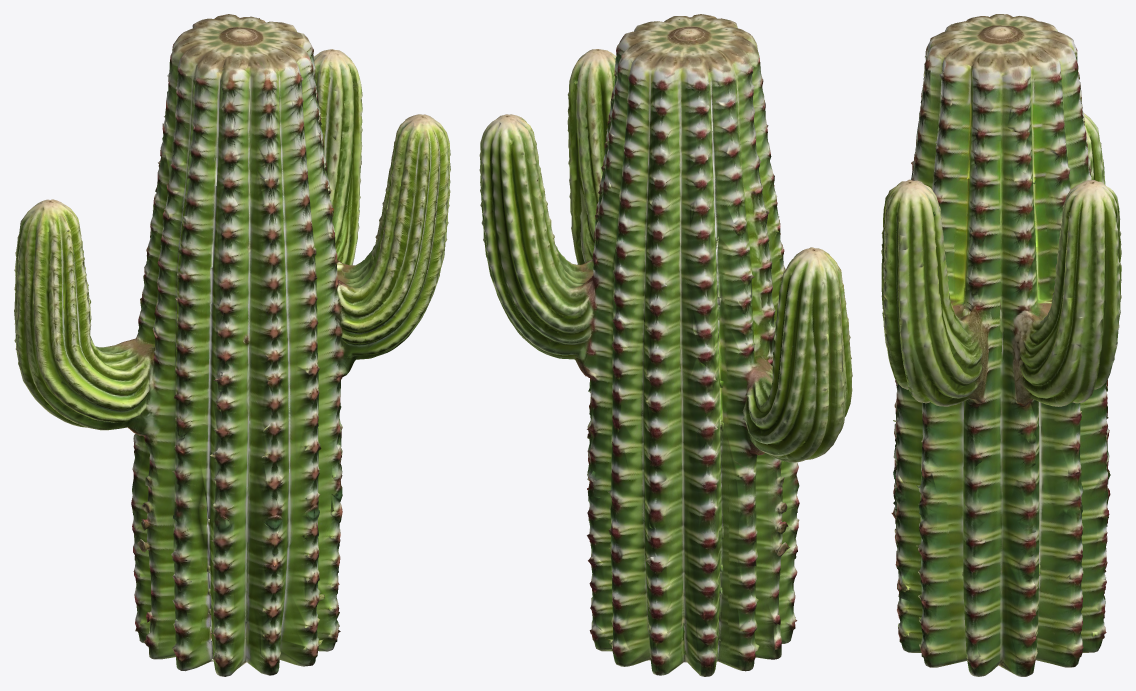
The model's file is TC003_Meshy 6 Preview.glb.
3 renders of one model, left to right at view 1: azimuth 30°, elevation 25°; view 2: azimuth 150°, elevation 25°; view 3: azimuth 270°, elevation 25°, orthographic.
Size of the model in its own units: 1.16 by 1.91 by 0.6827.
1 material, 1 textured.
